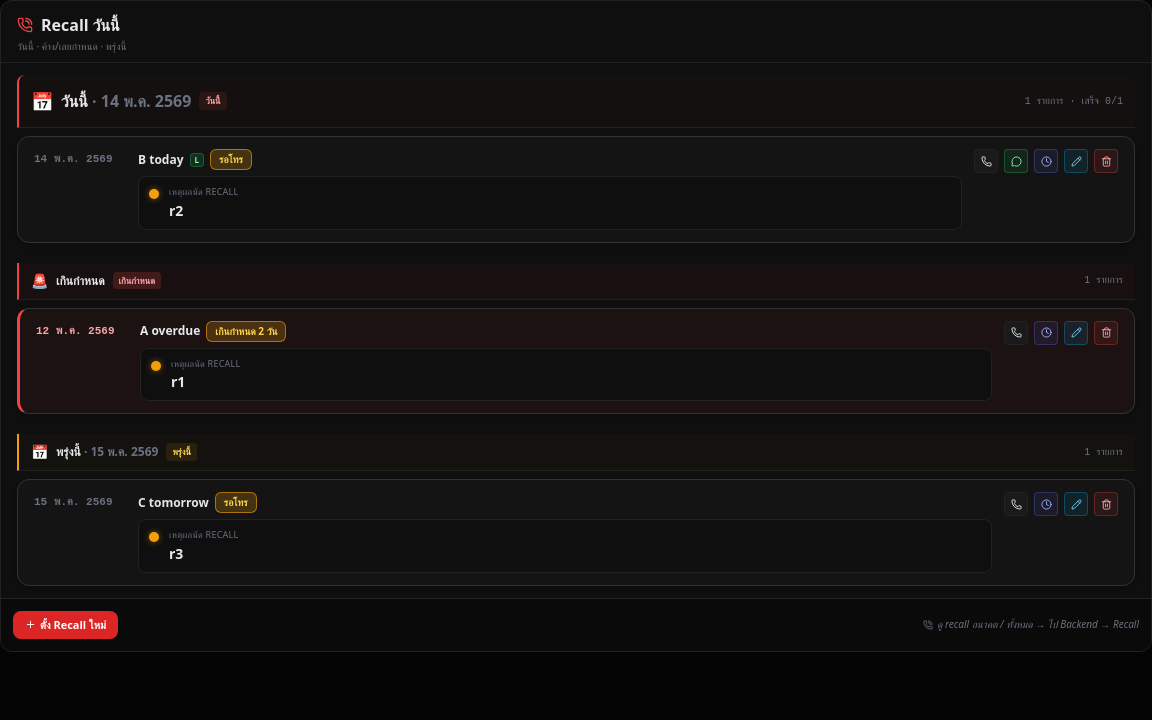
Test: Phase 29 · F2 RecallFrontendView interactions › F2.4 click snooze chip opens snooze menu
The width and height of the screenshot is (1152, 720).
Click the button with test id "recall-snooze-O1": (1046, 332) x1=1034 y1=320 x2=1058 y2=344
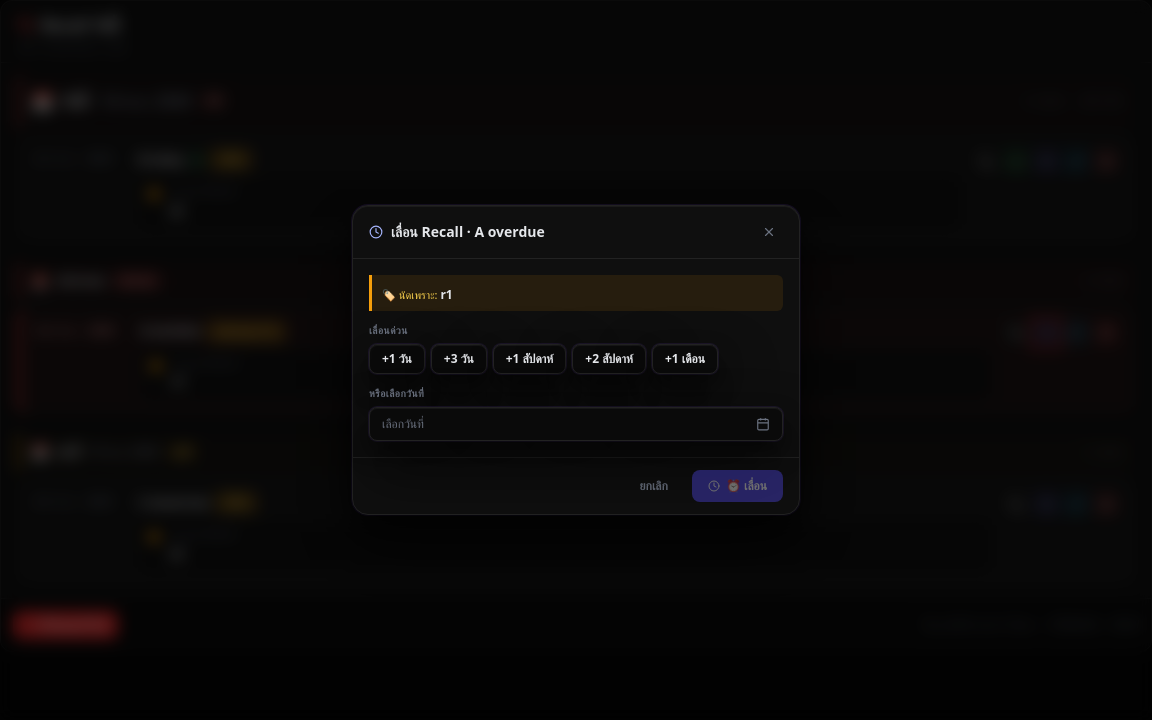
Check: the element with test id "recall-snooze-menu" is shown
